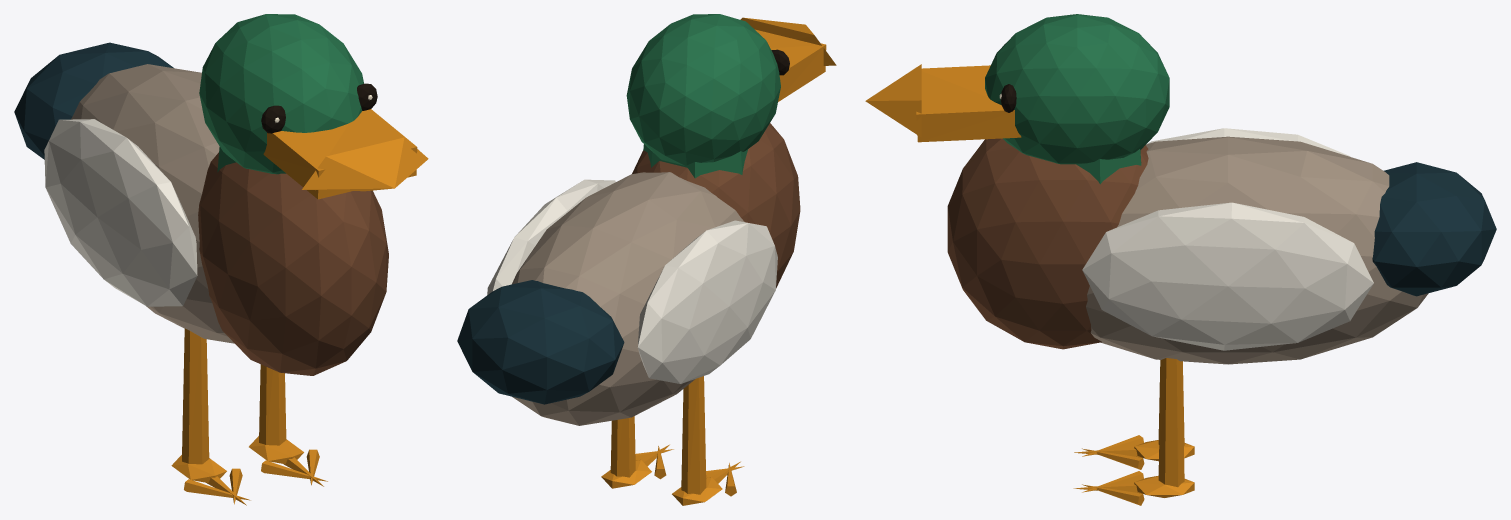
Rendered from low-poly-duck.glb.
The picture shows the model from 3 angles, left to right: view 1: azimuth 30°, elevation 25°; view 2: azimuth 150°, elevation 25°; view 3: azimuth 270°, elevation 25°; orthographic projection. The views are drawn at different scales.
Visible parts, largest first — view 1: duck-chest-mesh, duck-wing-left-mesh, duck-head-mesh, duck-body-mesh, duck-tail-mesh, duck-bill-mesh, duck-bill-tip-mesh, duck-leg-left-shaft-mesh, duck-leg-right-shaft-mesh, duck-leg-left-palm-mesh, duck-leg-right-palm-mesh, duck-eye-left-mesh (+2 smaller); view 2: duck-body-mesh, duck-head-mesh, duck-wing-left-mesh, duck-tail-mesh, duck-chest-mesh, duck-wing-right-mesh, duck-leg-left-shaft-mesh, duck-bill-mesh, duck-leg-right-shaft-mesh, duck-bill-tip-mesh, duck-neck-mesh, duck-leg-right-palm-mesh (+1 smaller); view 3: duck-wing-right-mesh, duck-chest-mesh, duck-body-mesh, duck-head-mesh, duck-tail-mesh, duck-bill-mesh, duck-leg-right-shaft-mesh, duck-bill-tip-mesh, duck-wing-left-mesh, duck-neck-mesh, duck-leg-right-palm-mesh.
Part boxes in pixels (x1=…): duck-chest-mesh: x1=198, y1=152, x2=388, y2=375; duck-wing-left-mesh: x1=44, y1=119, x2=197, y2=306; duck-head-mesh: x1=199, y1=14, x2=363, y2=174; duck-body-mesh: x1=71, y1=64, x2=234, y2=343; duck-tail-mesh: x1=14, y1=42, x2=173, y2=159; duck-bill-mesh: x1=263, y1=109, x2=417, y2=199; duck-bill-tip-mesh: x1=302, y1=137, x2=428, y2=191; duck-leg-left-shaft-mesh: x1=182, y1=328, x2=209, y2=464; duck-leg-right-shaft-mesh: x1=259, y1=364, x2=286, y2=445; duck-leg-left-palm-mesh: x1=171, y1=455, x2=226, y2=482; duck-leg-right-palm-mesh: x1=249, y1=436, x2=303, y2=464; duck-eye-left-mesh: x1=261, y1=105, x2=285, y2=133; duck-body-mesh: x1=512, y1=172, x2=744, y2=425; duck-head-mesh: x1=626, y1=14, x2=780, y2=165; duck-wing-left-mesh: x1=638, y1=220, x2=777, y2=383; duck-tail-mesh: x1=457, y1=280, x2=624, y2=404; duck-chest-mesh: x1=632, y1=123, x2=800, y2=288; duck-wing-right-mesh: x1=487, y1=179, x2=615, y2=294; duck-leg-left-shaft-mesh: x1=681, y1=376, x2=706, y2=494; duck-bill-mesh: x1=755, y1=29, x2=826, y2=101; duck-leg-right-shaft-mesh: x1=610, y1=416, x2=635, y2=477; duck-bill-tip-mesh: x1=740, y1=17, x2=836, y2=65; duck-neck-mesh: x1=643, y1=144, x2=747, y2=178; duck-leg-right-palm-mesh: x1=601, y1=460, x2=651, y2=488; duck-wing-right-mesh: x1=1082, y1=202, x2=1373, y2=350; duck-chest-mesh: x1=947, y1=138, x2=1148, y2=349; duck-body-mesh: x1=1086, y1=136, x2=1428, y2=364; duck-head-mesh: x1=985, y1=14, x2=1169, y2=164; duck-tail-mesh: x1=1372, y1=162, x2=1496, y2=296; duck-bill-mesh: x1=916, y1=65, x2=1021, y2=142; duck-leg-right-shaft-mesh: x1=1158, y1=358, x2=1184, y2=487; duck-bill-tip-mesh: x1=865, y1=64, x2=921, y2=137; duck-wing-left-mesh: x1=1146, y1=128, x2=1350, y2=156; duck-neck-mesh: x1=1076, y1=149, x2=1141, y2=184; duck-leg-right-palm-mesh: x1=1134, y1=475, x2=1194, y2=497.
Size of the model in its own units: 0.4691 by 1 by 1.26.
